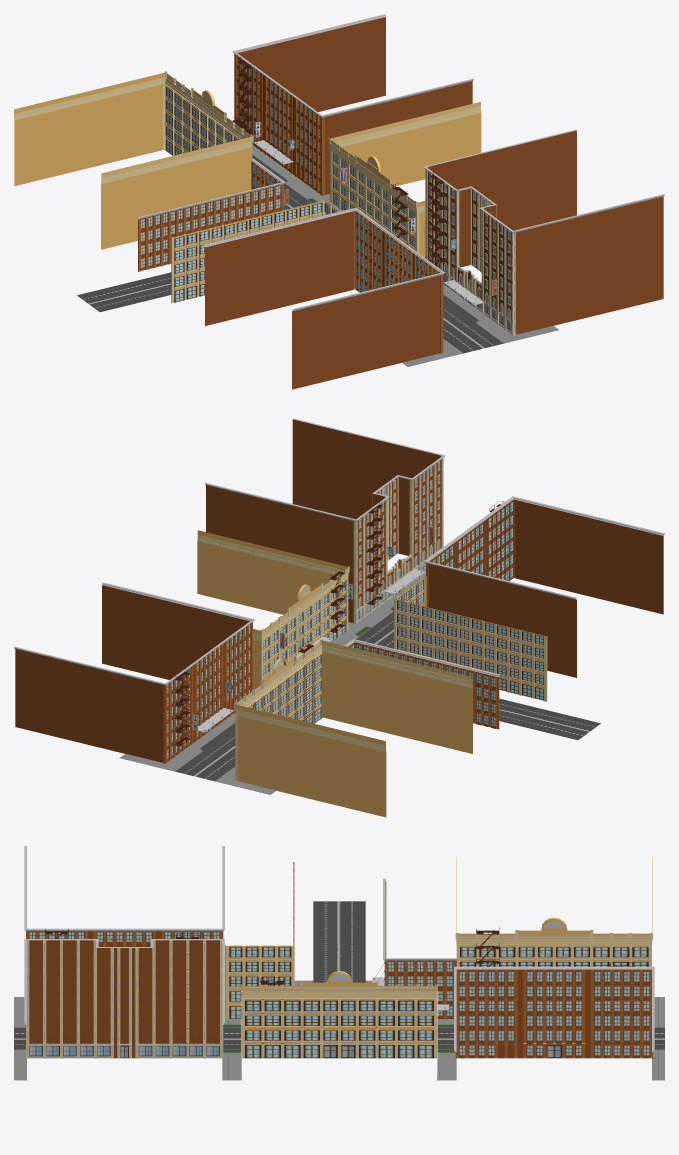
File: TileCity4_2.fbx
3 views of the same model, one above another, from view 1: azimuth 30°, elevation 25°; view 2: azimuth 150°, elevation 25°; view 3: azimuth 270°, elevation 25° (orthographic). The views are drawn at different scales.
Visible parts, largest first — view 1: Sidewalk1.147, Sidewalk1.153, Sidewalk1.146, Sidewalk1.082, Sidewalk1.094, Sidewalk1.152, Sidewalk1.145, Sidewalk1.150, Sidewalk1.095, Sidewalk1.151, Sidewalk1.093, Sidewalk1.144 (+30 smaller); view 2: Sidewalk1.147, Sidewalk1.153, Sidewalk1.146, Sidewalk1.094, Sidewalk1.082, Sidewalk1.073, Sidewalk1.152, Sidewalk1.145, Sidewalk1.150, Sidewalk1.095, Sidewalk1.072, Sidewalk1.151 (+30 smaller); view 3: Road1.004, Sidewalk1.085, Sidewalk1.150, Sidewalk1.086, Sidewalk1.088, Sidewalk1.093, Sidewalk1.070, Sidewalk1.084, Sidewalk1.082, Sidewalk1.083, Sidewalk1.073, Sidewalk1.092 (+26 smaller).
Boxes of the visible parts, x1=… form: Sidewalk1.147: x1=205, y1=211, x2=443, y2=323; Sidewalk1.153: x1=14, y1=84, x2=252, y2=197; Sidewalk1.146: x1=205, y1=223, x2=443, y2=336; Sidewalk1.082: x1=234, y1=17, x2=472, y2=130; Sidewalk1.094: x1=425, y1=143, x2=663, y2=257; Sidewalk1.152: x1=14, y1=97, x2=250, y2=210; Sidewalk1.145: x1=205, y1=236, x2=443, y2=350; Sidewalk1.150: x1=14, y1=71, x2=253, y2=184; Sidewalk1.095: x1=425, y1=130, x2=663, y2=244; Sidewalk1.151: x1=14, y1=110, x2=250, y2=223; Sidewalk1.093: x1=425, y1=157, x2=663, y2=270; Sidewalk1.144: x1=205, y1=249, x2=443, y2=363; Sidewalk1.147: x1=426, y1=499, x2=663, y2=612; Sidewalk1.153: x1=235, y1=652, x2=472, y2=764; Sidewalk1.146: x1=426, y1=512, x2=663, y2=625; Sidewalk1.094: x1=206, y1=432, x2=443, y2=545; Sidewalk1.082: x1=15, y1=585, x2=252, y2=698; Sidewalk1.073: x1=15, y1=598, x2=252, y2=711; Sidewalk1.152: x1=235, y1=665, x2=472, y2=777; Sidewalk1.145: x1=426, y1=525, x2=663, y2=638; Sidewalk1.150: x1=234, y1=639, x2=473, y2=751; Sidewalk1.095: x1=206, y1=419, x2=443, y2=532; Sidewalk1.072: x1=15, y1=611, x2=252, y2=724; Sidewalk1.151: x1=235, y1=678, x2=472, y2=791; Road1.004: x1=313, y1=901, x2=365, y2=982; Sidewalk1.085: x1=241, y1=971, x2=437, y2=1078; Sidewalk1.150: x1=455, y1=856, x2=652, y2=945; Sidewalk1.086: x1=242, y1=1013, x2=436, y2=1028; Sidewalk1.088: x1=26, y1=1043, x2=223, y2=1058; Sidewalk1.093: x1=27, y1=969, x2=222, y2=992; Sidewalk1.070: x1=456, y1=1028, x2=651, y2=1043; Sidewalk1.084: x1=242, y1=1043, x2=436, y2=1058; Sidewalk1.082: x1=456, y1=969, x2=651, y2=984; Sidewalk1.083: x1=242, y1=1028, x2=436, y2=1043; Sidewalk1.073: x1=456, y1=984, x2=651, y2=999; Sidewalk1.092: x1=27, y1=984, x2=222, y2=1006.
Bounding box in the file's own units: 17420 × 4130 × 20000.
